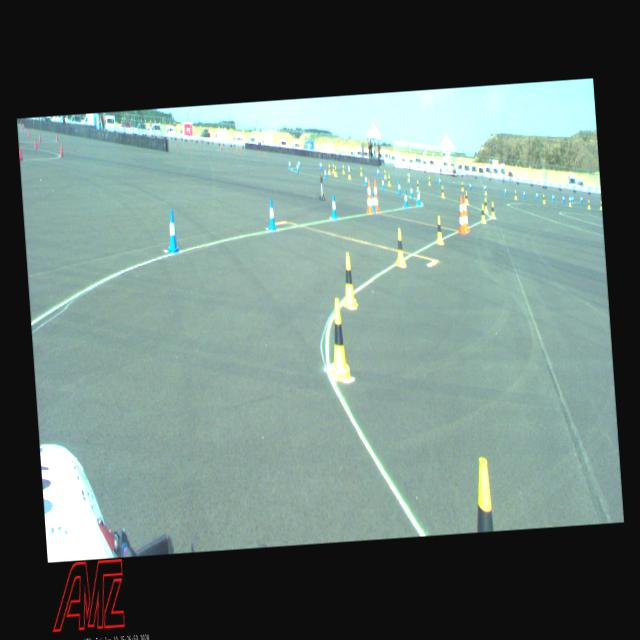blue_cone: (166, 209, 178, 253), (266, 198, 276, 230), (330, 193, 338, 220), (371, 192, 376, 212), (403, 190, 408, 208), (416, 188, 421, 204), (363, 173, 368, 186), (416, 190, 420, 206), (408, 184, 412, 198), (397, 180, 401, 193), (380, 177, 384, 190), (468, 180, 472, 190), (323, 167, 326, 179), (296, 161, 299, 173), (522, 189, 526, 198), (482, 183, 486, 192), (297, 159, 300, 169), (570, 195, 574, 202), (535, 190, 538, 199), (319, 160, 322, 169), (376, 167, 379, 176), (438, 176, 441, 184), (568, 196, 571, 204), (407, 172, 410, 180), (288, 159, 290, 169), (552, 192, 554, 202), (347, 162, 349, 172), (504, 187, 506, 196), (580, 194, 582, 203), (562, 194, 564, 202)
large_orange_cone: (455, 196, 466, 233), (460, 194, 470, 232), (363, 180, 372, 214), (372, 178, 378, 212)
orange_cone: (18, 146, 22, 160), (38, 133, 42, 142), (59, 144, 62, 154), (34, 139, 36, 148), (56, 132, 58, 140), (22, 124, 24, 131), (28, 130, 30, 136)
yellow_cone: (326, 298, 350, 380), (471, 458, 494, 532), (340, 252, 358, 306), (393, 226, 406, 268), (434, 216, 444, 244), (458, 206, 466, 234), (480, 204, 486, 223), (490, 201, 495, 219), (483, 196, 488, 212), (464, 190, 468, 206), (542, 193, 546, 204), (513, 189, 517, 200), (416, 180, 420, 190), (441, 184, 444, 197), (387, 174, 390, 187), (598, 200, 602, 209), (327, 163, 330, 174), (586, 200, 590, 208), (461, 181, 464, 191), (359, 167, 362, 176), (568, 198, 571, 206), (484, 186, 487, 194), (348, 168, 350, 180), (406, 174, 409, 182), (334, 165, 336, 176), (332, 163, 334, 173), (342, 164, 344, 173), (428, 176, 430, 184), (384, 170, 386, 178)
